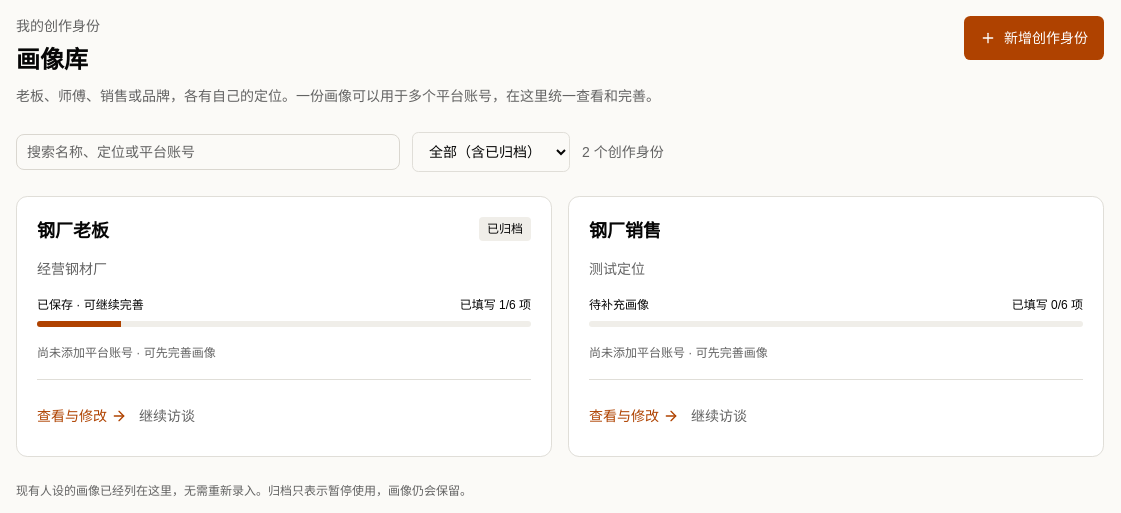
Test case: portrait library › includes archived portraits and links edits to the original project identity
Check: the text "已归档" is shown, box [479,217,531,241]
Check: the text "已保存 · 可继续完善" is shown, box [37,297,144,313]
In the field named "搜索创作身份": (208, 152) [16,134,400,170], type "销售"
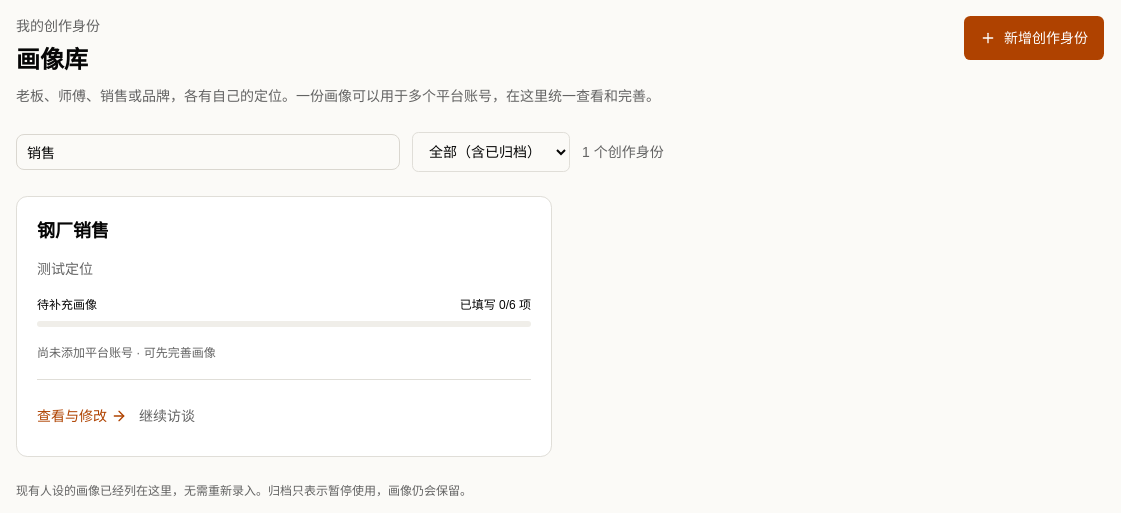
Check: the element named "创作身份：钢厂销售" is shown, box [16,196,552,457]
Check: the element "创作身份：钢厂老板" is gone
